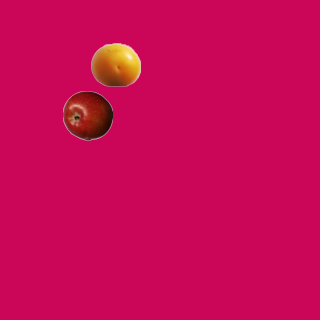Apple Braeburn: (62, 90, 112, 140)
Cherry Wax Yellow: (90, 39, 140, 89)
